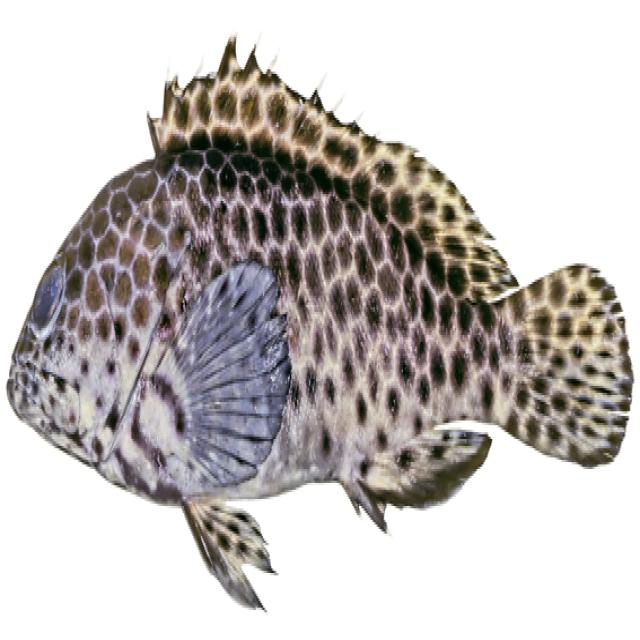ikan: (6, 30, 633, 612)
